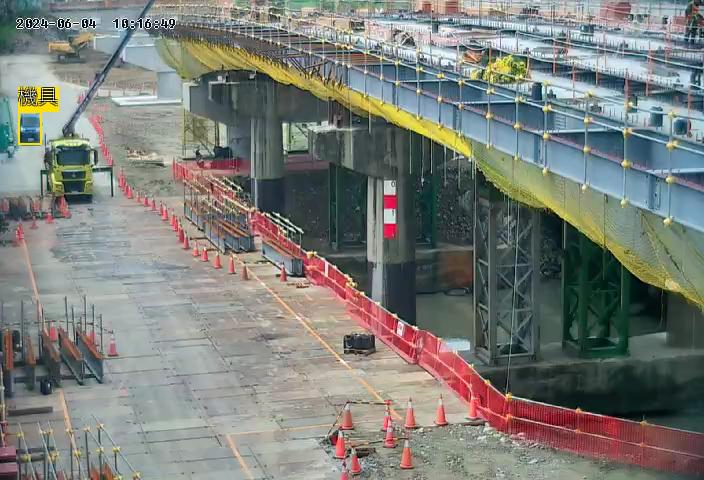Safety Cone: (434, 397, 448, 427), (341, 401, 355, 430), (401, 438, 414, 469), (333, 429, 346, 459), (349, 446, 362, 475), (404, 399, 417, 428), (383, 421, 397, 447), (465, 395, 479, 420), (381, 402, 392, 432), (107, 334, 119, 357), (48, 321, 56, 342), (227, 258, 237, 274), (340, 462, 348, 480), (279, 264, 287, 282), (182, 233, 190, 250), (213, 252, 221, 268), (192, 242, 200, 258), (241, 264, 248, 282), (15, 225, 23, 240), (89, 327, 96, 344), (176, 222, 183, 238), (162, 206, 169, 221), (202, 246, 208, 262), (172, 216, 178, 232), (178, 227, 184, 242), (169, 211, 175, 226), (123, 182, 129, 196), (157, 203, 163, 216), (150, 198, 156, 210), (47, 209, 52, 223), (128, 186, 133, 199), (31, 216, 36, 229), (2, 202, 8, 212), (144, 195, 149, 206), (122, 180, 126, 192), (136, 192, 140, 203), (34, 200, 38, 211)
machinery: (40, 1, 157, 203), (48, 32, 96, 63), (20, 113, 40, 144)
